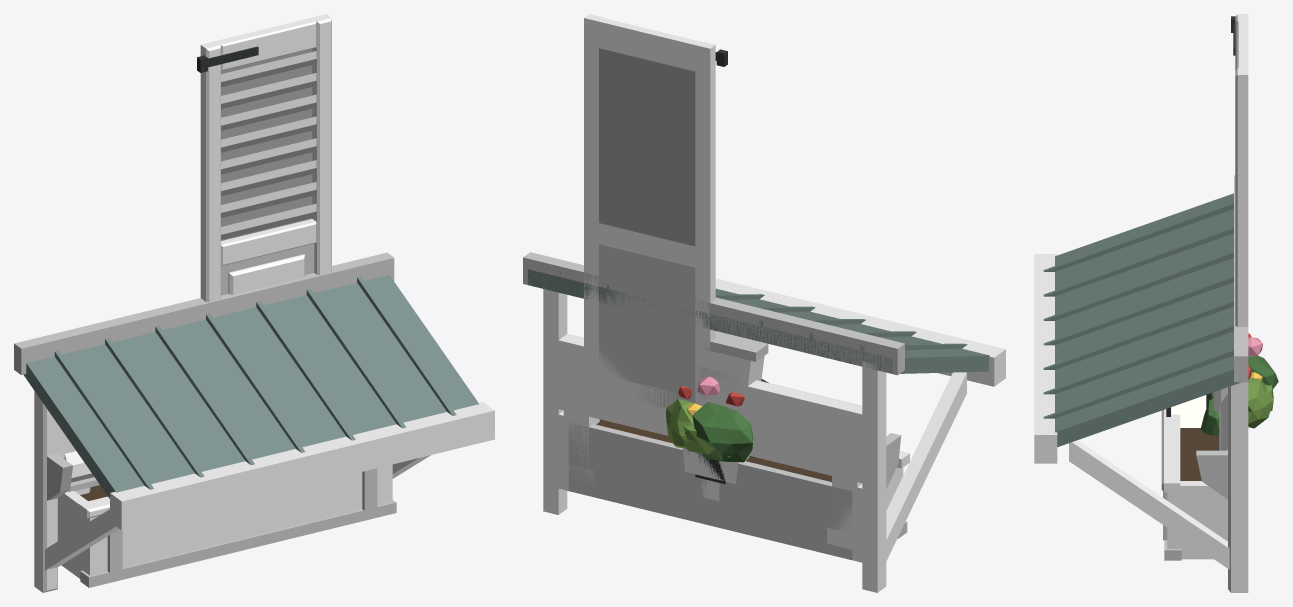
Rendered from trims.glb.
The picture shows the model from 3 angles, left to right: view 1: azimuth 30°, elevation 25°; view 2: azimuth 150°, elevation 25°; view 3: azimuth 270°, elevation 25°; orthographic projection.
Parts seen in each view (by area): view 1: Roof deck, Fascia, Front board, Flashing, Louvre back, Stile, Stile.001, Plinth, Wall post, Rail.002, Rail.001, Raised field (+21 smaller); view 2: Back board, Louvre back, Panel board, Drip mould, Flashing, Roof deck, Stile, Stile.001, Wall post, Lintel half.001, Lintel half, Knee brace (+13 smaller); view 3: Roof deck, Knee brace.001, Wall post.001, Fascia, Stile.001, End board.001, Top rim, Soil, Seam.001, Seam.003, Seam.005, Seam.006 (+11 smaller).
Part boxes in pixels (box(x1,y1,x2,y2)): Roof deck: box(23, 275, 478, 498); Fascia: box(110, 402, 494, 530); Front board: box(86, 465, 390, 575); Flashing: box(14, 252, 394, 374); Louvre back: box(221, 49, 312, 240); Stile: box(200, 41, 220, 302); Stile.001: box(312, 14, 331, 275); Plinth: box(80, 500, 396, 587); Wall post: box(34, 391, 57, 592); Rail.002: box(216, 17, 316, 70); Rail.001: box(221, 219, 316, 265); Raised field: box(228, 254, 304, 294); Back board: box(568, 422, 852, 559); Louvre back: box(599, 48, 695, 246); Panel board: box(599, 244, 695, 408); Drip mould: box(563, 365, 857, 481); Flashing: box(523, 252, 904, 375); Roof deck: box(528, 269, 989, 373); Stile: box(695, 41, 715, 400); Stile.001: box(584, 14, 603, 418); Wall post: box(862, 361, 886, 592); Lintel half.001: box(543, 334, 668, 435); Lintel half: box(745, 380, 877, 482); Knee brace: box(886, 372, 966, 560); Roof deck: box(1055, 193, 1240, 447); Knee brace.001: box(1069, 440, 1229, 569); Wall post.001: box(1228, 382, 1248, 592); Fascia: box(1034, 254, 1057, 463); Stile.001: box(1235, 67, 1248, 326); End board.001: box(1167, 481, 1227, 559); Top rim: box(1161, 407, 1180, 492); Soil: box(1180, 428, 1219, 480); Seam.001: box(1043, 226, 1233, 296); Seam.003: box(1043, 275, 1233, 345); Seam.005: box(1043, 324, 1233, 394); Seam.006: box(1043, 348, 1233, 418).
Size of the model in its own units: 1.48 by 1.9 by 0.8451.
